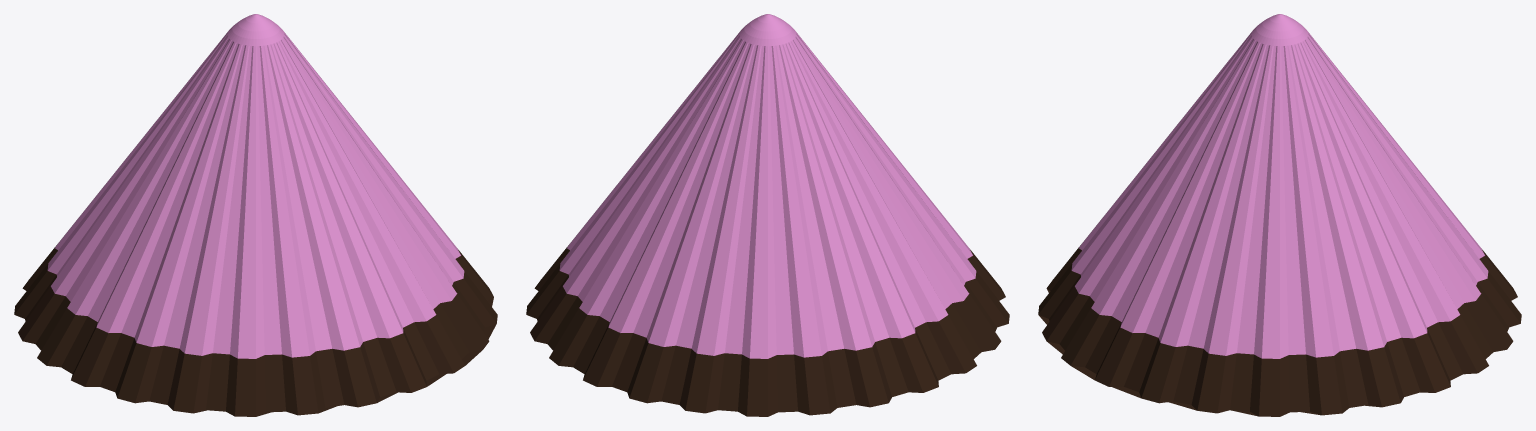
The model's file is Aporochoco.fbx.
The picture shows the model from 3 angles, left to right: view 1: azimuth 30°, elevation 25°; view 2: azimuth 150°, elevation 25°; view 3: azimuth 270°, elevation 25°; orthographic projection.
Visible parts, largest first — view 1: Circle; view 2: Circle; view 3: Circle.
Boxes of the visible parts, <box> form: Circle: <box>14,14,497,416</box>; Circle: <box>526,14,1009,416</box>; Circle: <box>1038,14,1521,416</box>.
Bounding box in the file's own units: 299 × 205 × 299.
